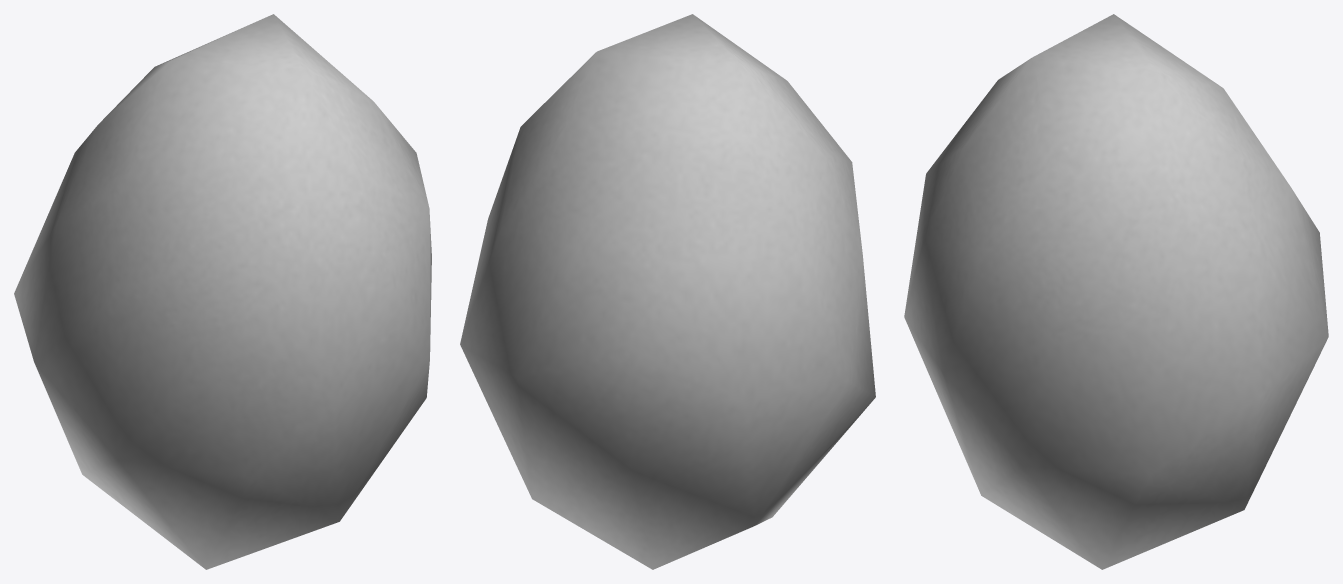
Rendered from moderator_egg.glb.
3 renders of one model, left to right at view 1: azimuth 30°, elevation 25°; view 2: azimuth 150°, elevation 25°; view 3: azimuth 270°, elevation 25°, orthographic.
Visible parts, largest first — view 1: Egg; view 2: Egg; view 3: Egg.
Boxes of the visible parts, x1,y1,x2,y2 form: Egg: (14, 14, 431, 569); Egg: (460, 14, 875, 569); Egg: (904, 14, 1328, 569).
Bounding box in the file's own units: 0.0548 × 0.0698 × 0.0553.
1 material, 1 textured.
